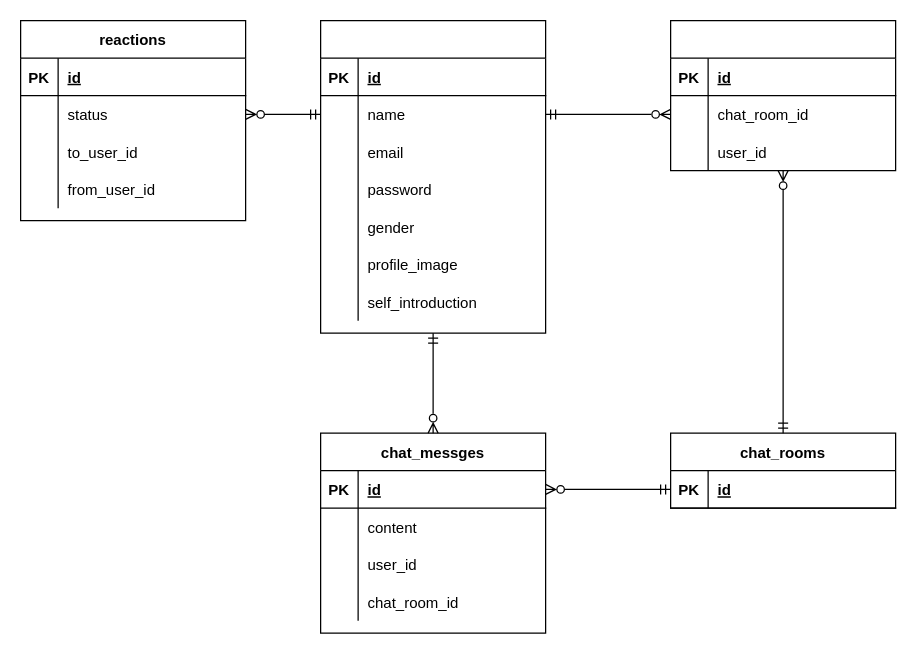
This 916x654 diagram has some shape labels left out. Here are the shapes that lost their labels. From the top down, the box of each, then its label:
(669, 19, 896, 171): chat_room_users
(319, 19, 546, 333): users
